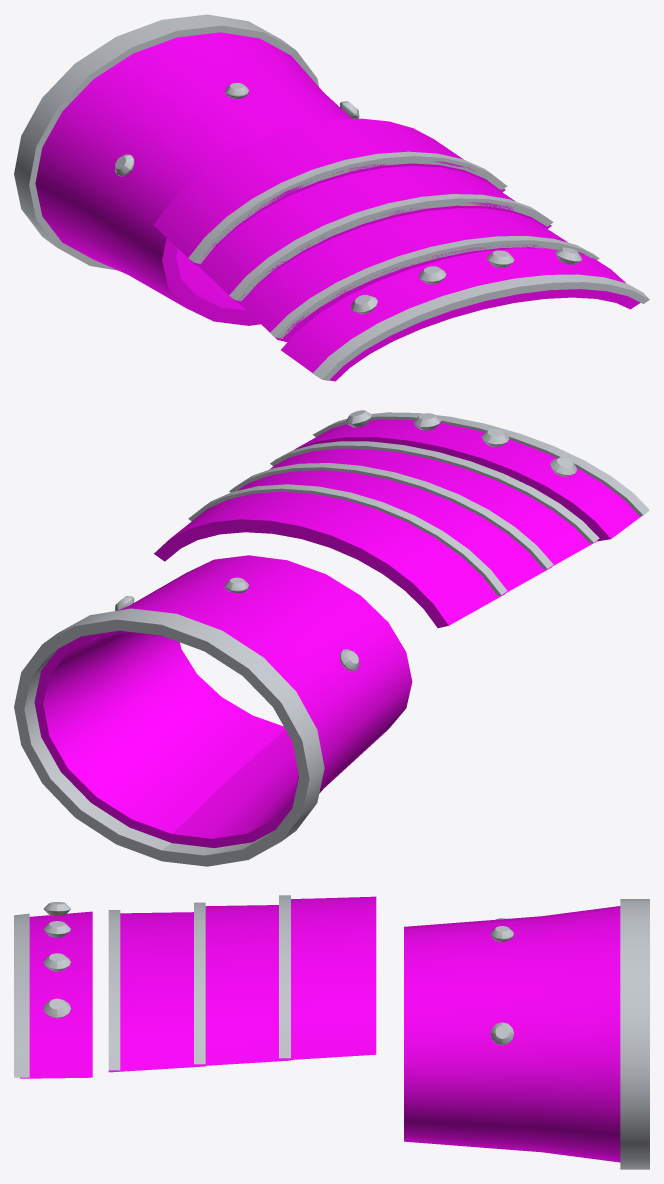
Rendered from gantelet_armure2.glb.
3 views of the same model, one above another, from view 1: azimuth 30°, elevation 25°; view 2: azimuth 150°, elevation 25°; view 3: azimuth 270°, elevation 25° (orthographic).
Visible parts, largest first — view 1: main__gantelet_teinte, manchette__gantelet_teinte, main__gantelet_rivet, manchette__gantelet_rivet; view 2: manchette__gantelet_teinte, main__gantelet_teinte, manchette__gantelet_rivet, main__gantelet_rivet; view 3: manchette__gantelet_teinte, main__gantelet_teinte, main__gantelet_rivet, manchette__gantelet_rivet.
Boxes of the visible parts, x1,y1,x2,y2 form: main__gantelet_teinte: [154, 118, 640, 381]; manchette__gantelet_teinte: [35, 32, 352, 325]; main__gantelet_rivet: [188, 151, 649, 380]; manchette__gantelet_rivet: [14, 14, 359, 270]; manchette__gantelet_teinte: [34, 555, 412, 847]; main__gantelet_teinte: [154, 419, 641, 628]; manchette__gantelet_rivet: [14, 577, 359, 866]; main__gantelet_rivet: [188, 410, 649, 595]; manchette__gantelet_teinte: [404, 906, 620, 1162]; main__gantelet_teinte: [20, 896, 376, 1078]; main__gantelet_rivet: [14, 895, 290, 1077]; manchette__gantelet_rivet: [490, 899, 649, 1169].
Bounding box in the file's own units: 0.0952 × 0.065 × 0.1615.
